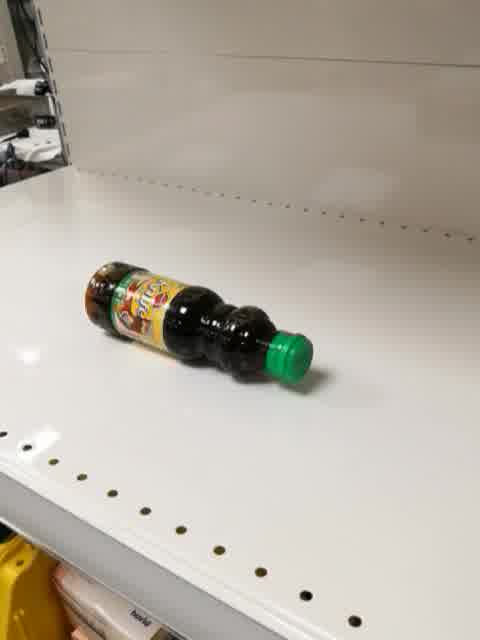cookingoil: (83, 259, 315, 387)
